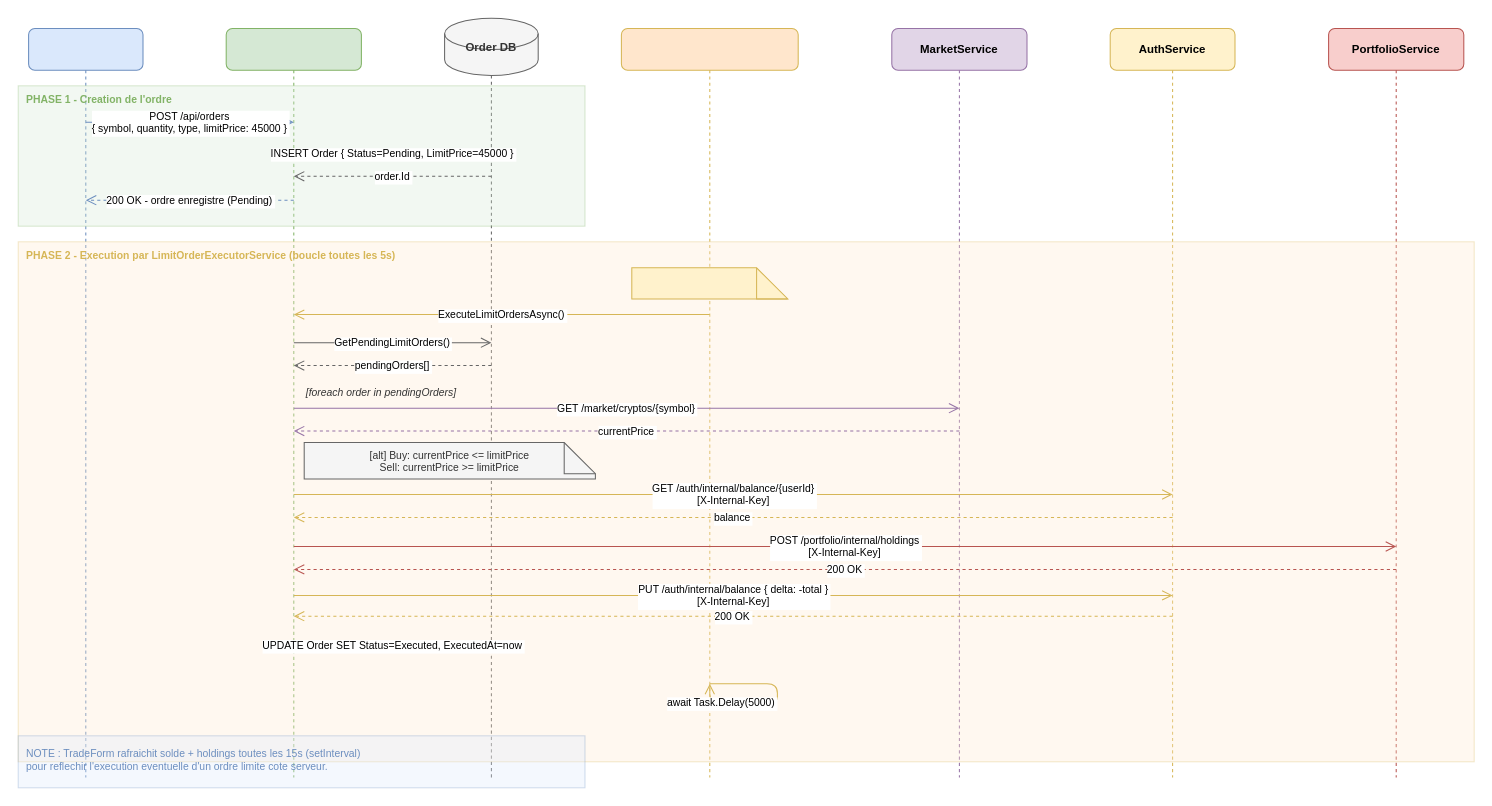
Image size: 1492x806. Some labels were removed from this diagram. Each missing label, with the centre of its shape:
"[loop] Task.Delay(5000)" goes at point (709, 283).
"Frontend" goes at point (85, 49).
"LimitOrderExecutor (BackgroundService)" goes at point (709, 49).
"OrderService" goes at point (293, 49).
